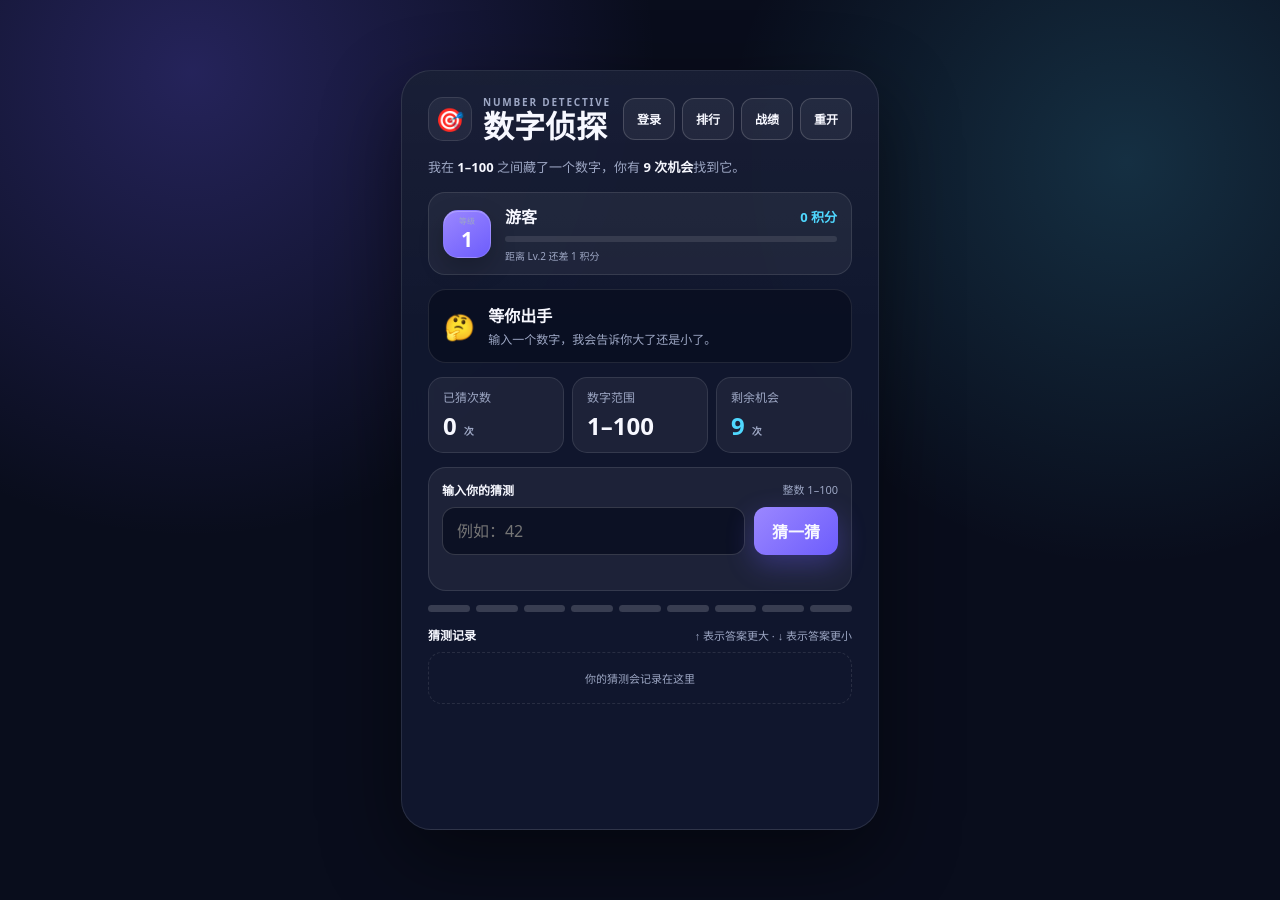
Test case: GamePage › rejects invalid input 101
In the field labelled "输入你的猜测": (594, 531) left=442, top=507, right=745, bottom=555, type "101"
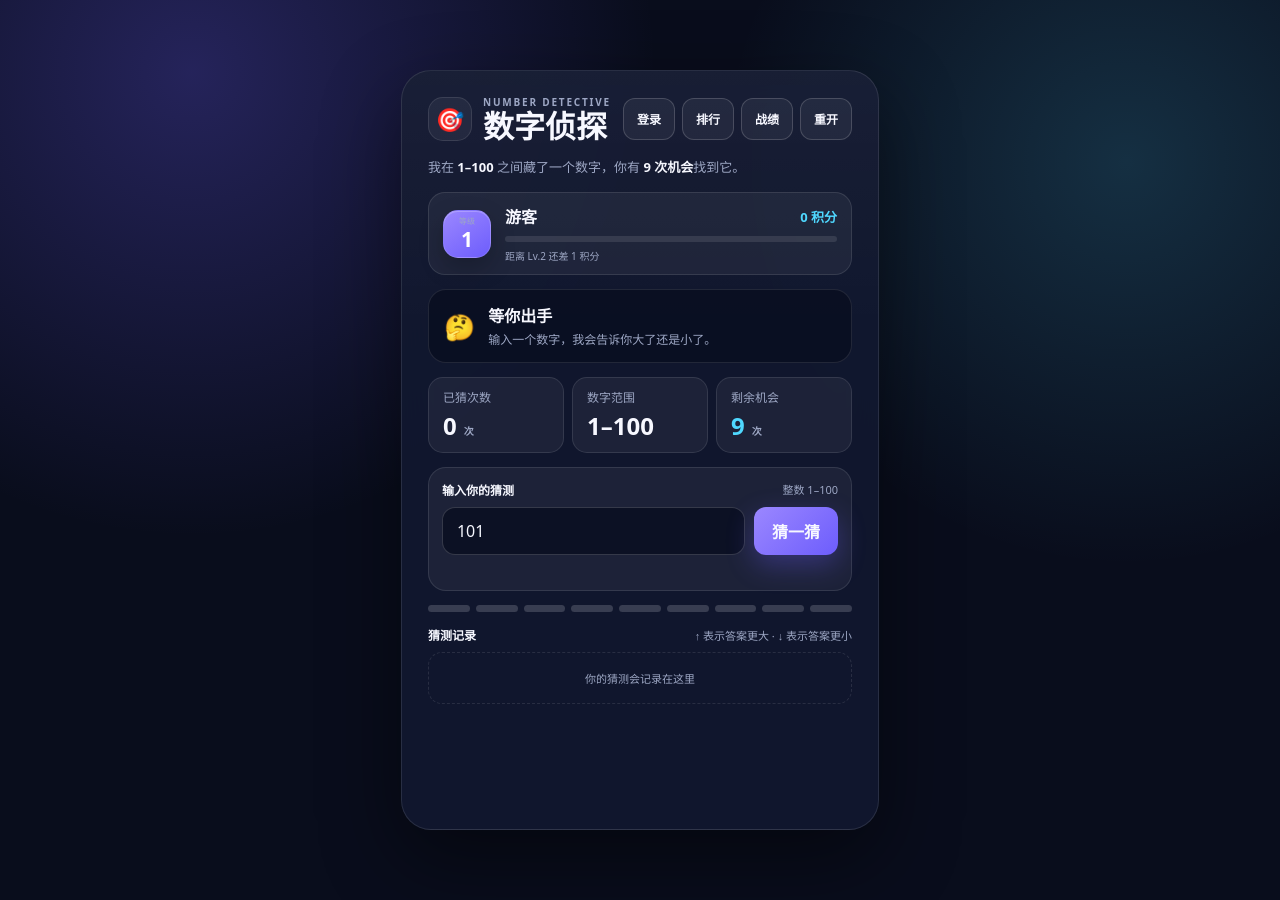
Click the button "猜一猜": click(796, 531) left=754, top=507, right=838, bottom=555
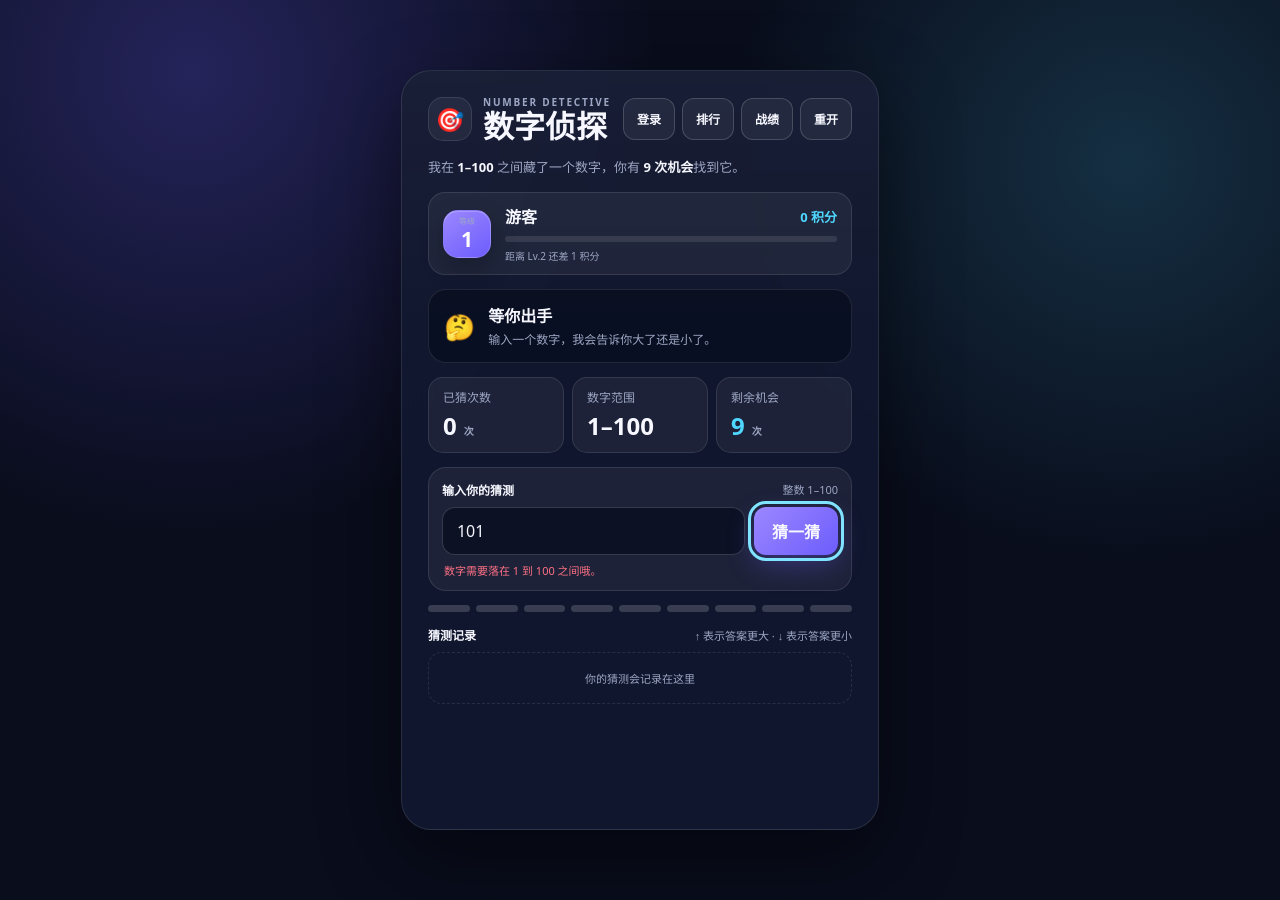
Expected: the message "数字需要落在 1 到 100 之间哦。" is shown, left=444, top=563, right=602, bottom=578
